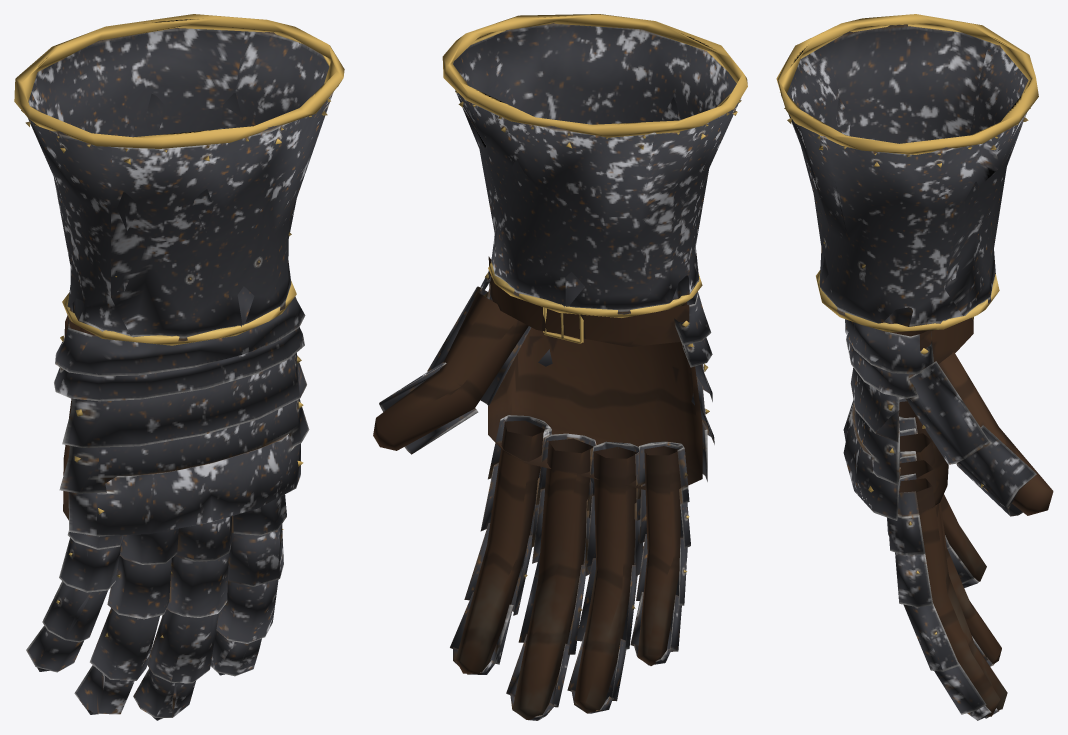
The model's file is SM_EagleGauntlets_L_LOD3.fbx.
The picture shows the model from 3 angles, left to right: view 1: azimuth 30°, elevation 25°; view 2: azimuth 150°, elevation 25°; view 3: azimuth 270°, elevation 25°; orthographic projection. The views are drawn at different scales.
Parts seen in each view (by area): view 1: SM_EagleGauntlets_L_LOD3; view 2: SM_EagleGauntlets_L_LOD3; view 3: SM_EagleGauntlets_L_LOD3.
Boxes of the visible parts, x1,y1,x2,y2 form: SM_EagleGauntlets_L_LOD3: [14, 14, 344, 720]; SM_EagleGauntlets_L_LOD3: [373, 14, 747, 720]; SM_EagleGauntlets_L_LOD3: [776, 14, 1053, 720].
Size of the model in its own units: 0.1486 by 0.2968 by 0.1194.
